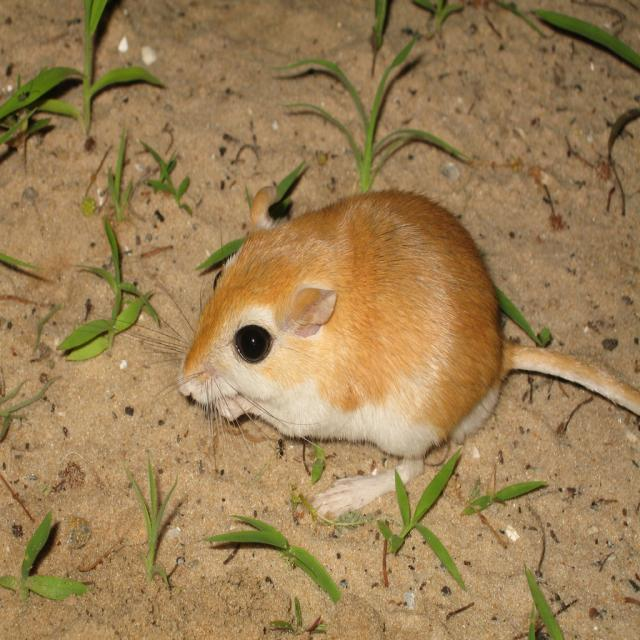rat: (172, 190, 640, 514)
